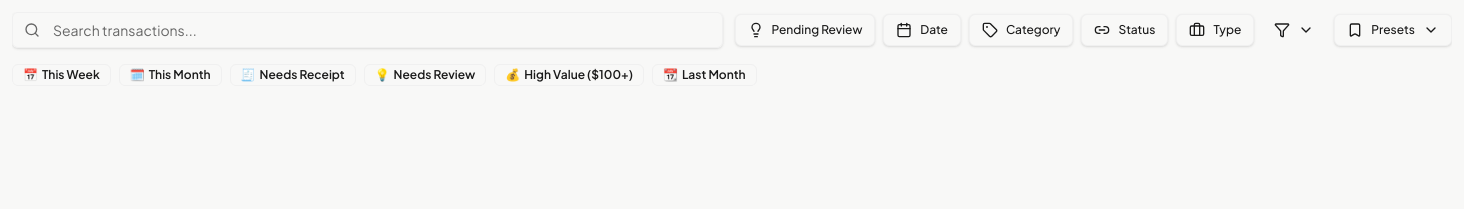
Test: TransactionFilterPanel › Category Filter › should show category options when clicked
Click the button "Category": {"x": 1021, "y": 30} [969, 14, 1073, 46]
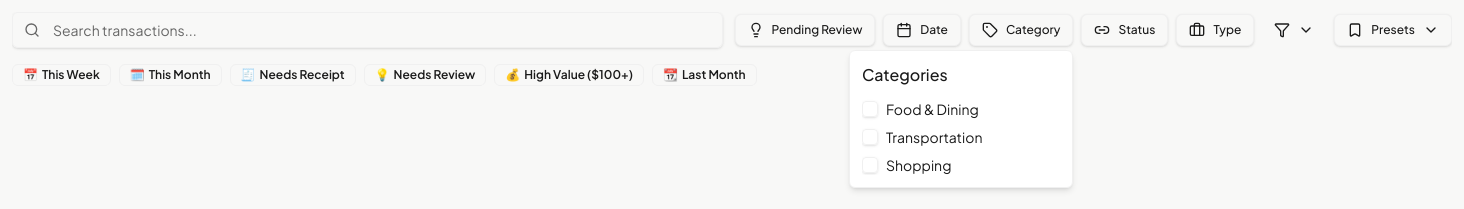
Check: the text "Food & Dining" is shown, box [886, 99, 979, 119]
Check: the text "Transportation" is shown, box [886, 127, 982, 147]
Check: the text "Shopping" is shown, box [886, 155, 951, 175]
